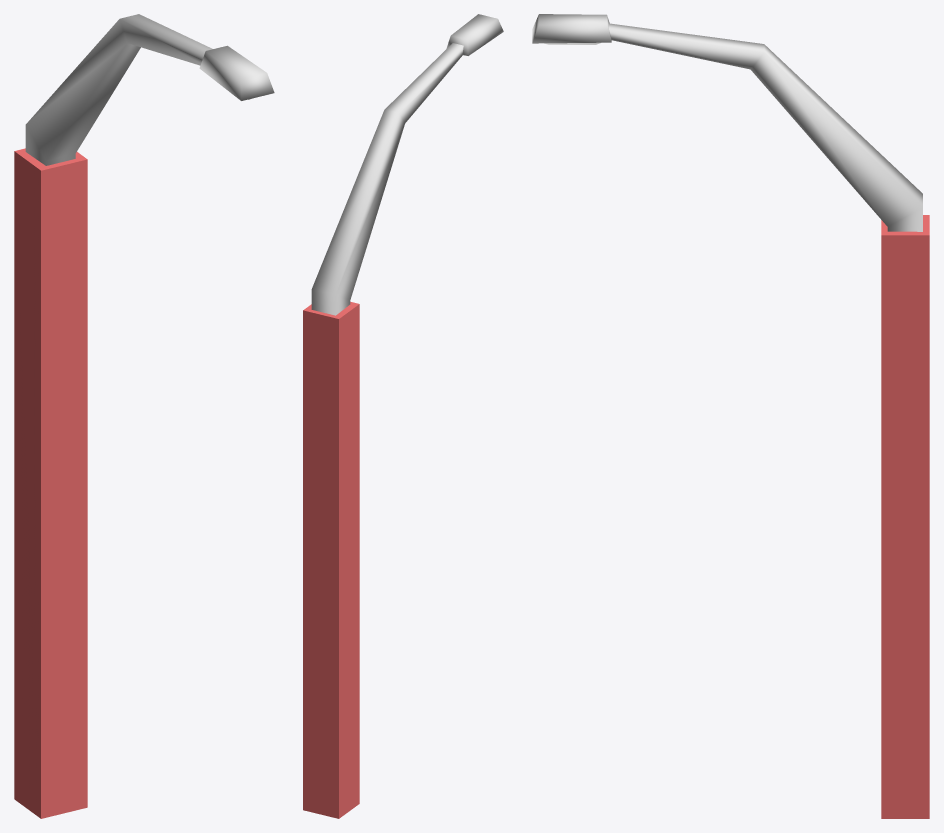
File: prop_streetlight.glb
3 renders of one model, left to right at view 1: azimuth 30°, elevation 25°; view 2: azimuth 150°, elevation 25°; view 3: azimuth 270°, elevation 25°, orthographic. The views are drawn at different scales.
Parts seen in each view (by area): view 1: brush_box.016, prop_streetlight; view 2: brush_box.016, prop_streetlight; view 3: brush_box.016, prop_streetlight.
Boxes of the visible parts, x1,y1,x2,y2 form: brush_box.016: (14, 148, 87, 818); prop_streetlight: (25, 14, 274, 165); brush_box.016: (303, 301, 359, 818); prop_streetlight: (311, 14, 503, 315); brush_box.016: (881, 215, 929, 818); prop_streetlight: (532, 14, 922, 231).
Bounding box in the file's own units: 0.2834 × 5.11 × 2.33.
